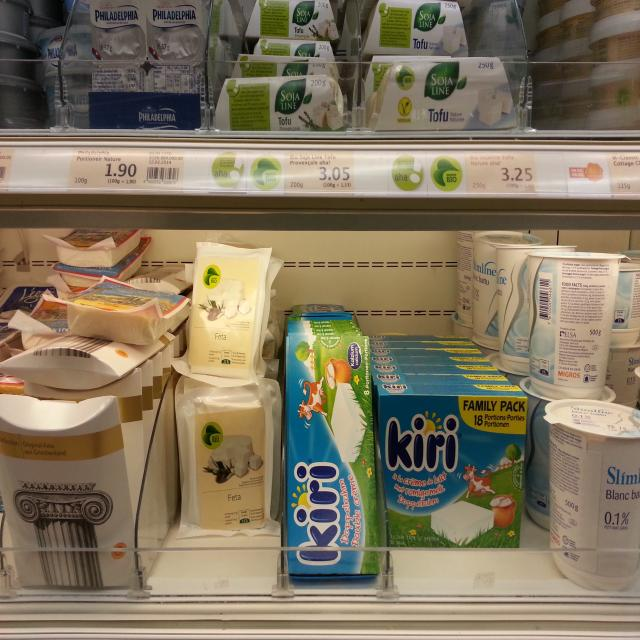Cheese: (0, 391, 139, 590), (372, 382, 528, 545), (286, 331, 384, 579), (546, 395, 640, 594), (174, 381, 276, 538), (90, 0, 205, 132), (526, 249, 620, 396), (358, 54, 518, 136), (190, 244, 271, 380), (50, 274, 190, 344), (212, 74, 351, 131), (361, 0, 469, 59), (242, 0, 342, 41)
